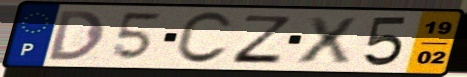5: (108, 10, 166, 64), (361, 15, 409, 68)
C: (171, 10, 236, 67)
D: (47, 9, 107, 62)
X: (294, 15, 360, 66)
Z: (228, 13, 295, 65)
